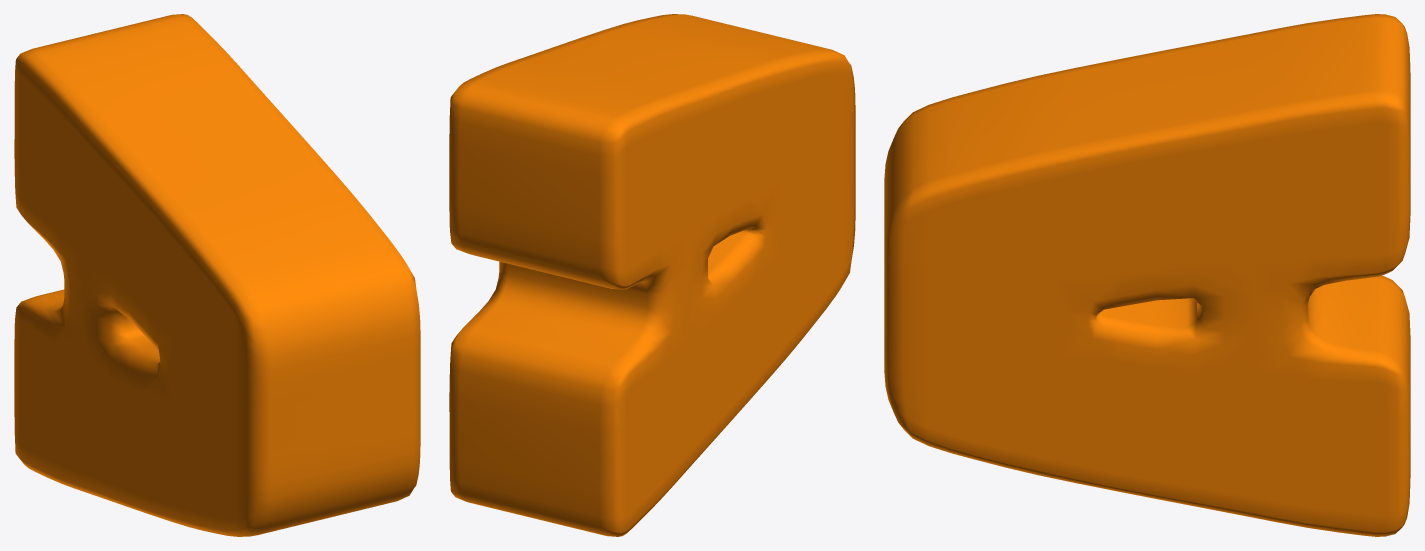
3 renders of one model, left to right at view 1: azimuth 30°, elevation 25°; view 2: azimuth 150°, elevation 25°; view 3: azimuth 270°, elevation 25°, orthographic. The views are drawn at different scales.
Parts seen in each view (by area): view 1: A:A_text_0; view 2: A:A_text_0; view 3: A:A_text_0.
Part boxes in pixels (x1,y1,x2,y2): A:A_text_0: [14, 14, 420, 536]; A:A_text_0: [449, 14, 855, 536]; A:A_text_0: [884, 14, 1410, 536].
Size of the model in its own units: 0.1355 by 0.3144 by 0.3386.
